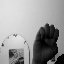e: (32, 22, 60, 59)
